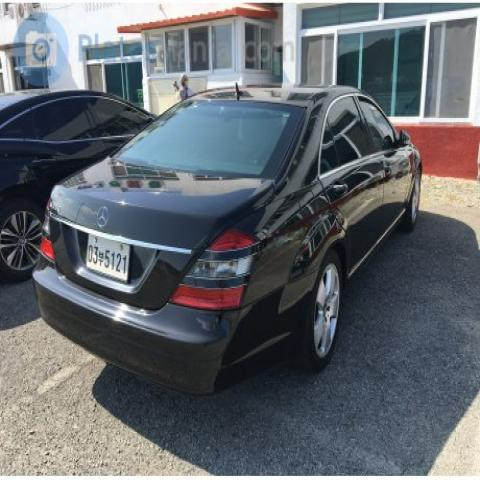LP: (74, 223, 143, 285)
